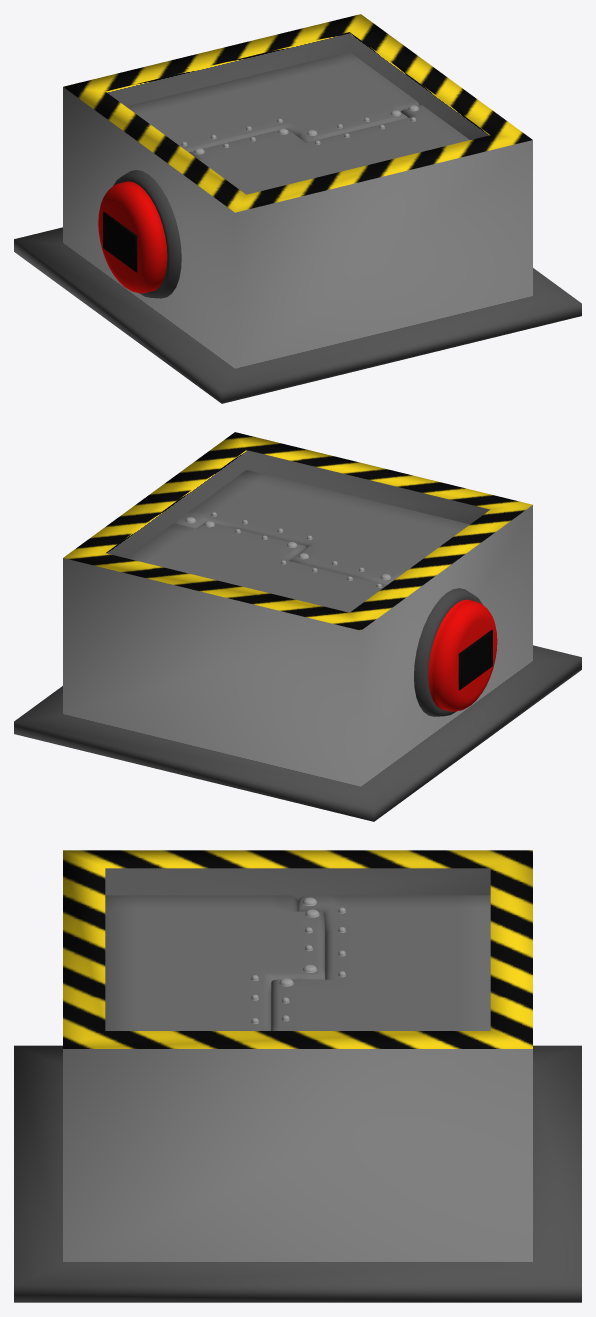
The model's file is CircleBox.fbx.
3 views of the same model, one above another, from view 1: azimuth 30°, elevation 25°; view 2: azimuth 150°, elevation 25°; view 3: azimuth 270°, elevation 25° (orthographic). The views are drawn at different scales.
Visible parts, largest first — view 1: Cube.001, Cube.003, Cube.013, Cylinder.010; view 2: Cube.001, Cube.013, Cube.003, Cylinder.010; view 3: Cube.001, Cube.013, Cube.003.
Boxes of the visible parts, <box> form: Cube.001: <box>14,14,581,403</box>; Cube.003: <box>126,52,419,152</box>; Cube.013: <box>189,105,469,194</box>; Cylinder.010: <box>98,181,167,293</box>; Cube.001: <box>14,432,581,821</box>; Cube.013: <box>176,470,469,584</box>; Cube.003: <box>126,521,386,612</box>; Cylinder.010: <box>428,599,497,711</box>; Cube.001: <box>14,850,581,1302</box>; Cube.013: <box>105,895,325,1030</box>; Cube.003: <box>271,895,490,1030</box>.
Size of the model in its own units: 391 by 177 by 391.
7 materials, 1 textured.
